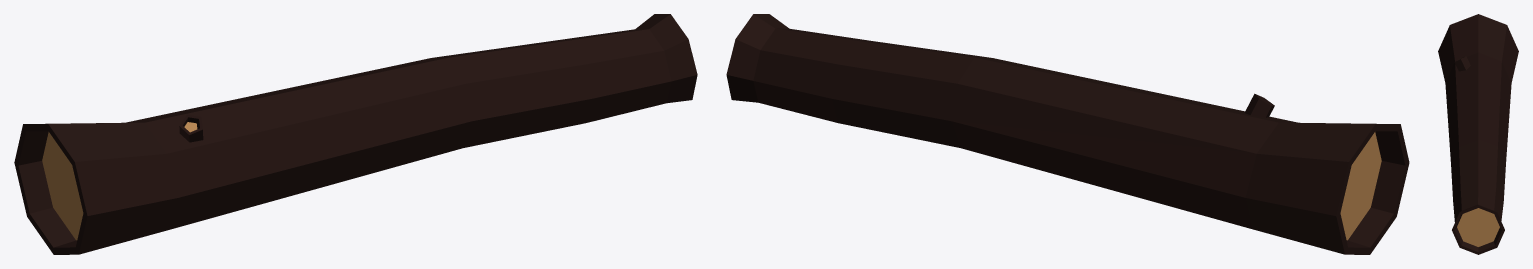
File: SM_trunk_dead_01.FBX
3 renders of one model, left to right at view 1: azimuth 30°, elevation 25°; view 2: azimuth 150°, elevation 25°; view 3: azimuth 270°, elevation 25°, orthographic. The views are drawn at different scales.
Visible parts, largest first — view 1: Line034; view 2: Line034; view 3: Line034.
Boxes of the visible parts, left/top/right/bottom form: Line034: left=14, top=14, right=697, bottom=254; Line034: left=726, top=14, right=1409, bottom=254; Line034: left=1438, top=14, right=1518, bottom=254.
Bounding box in the file's own units: 231 × 46.5 × 46.54.
